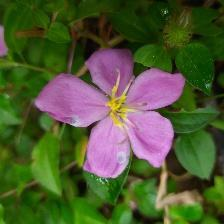malabar melastome: (33, 45, 188, 181)
